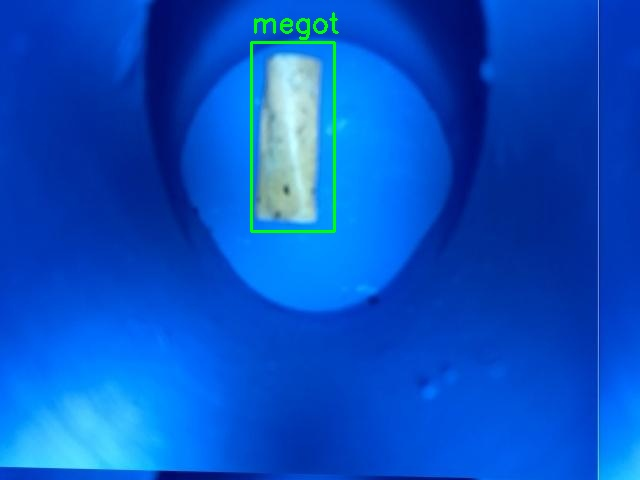megot: (251, 42, 334, 231)
